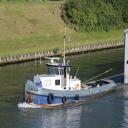tugboat: (24, 24, 118, 112)
